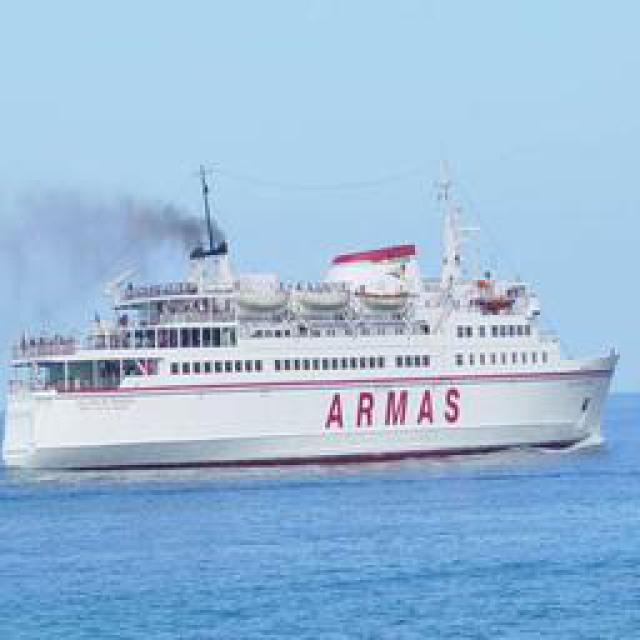Ship: (11, 154, 614, 469)
